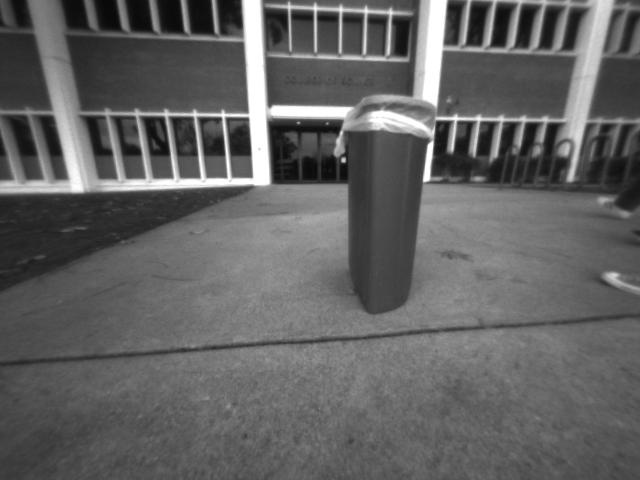trashcan: (338, 86, 442, 320)
